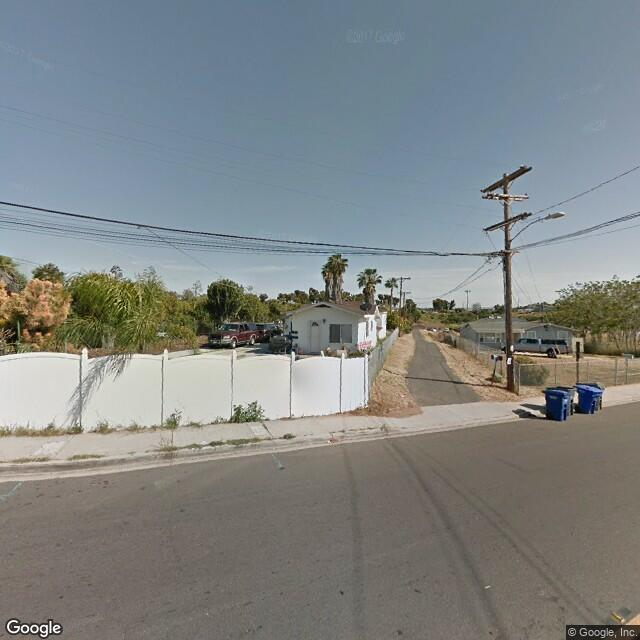litter: (482, 581, 492, 590)
